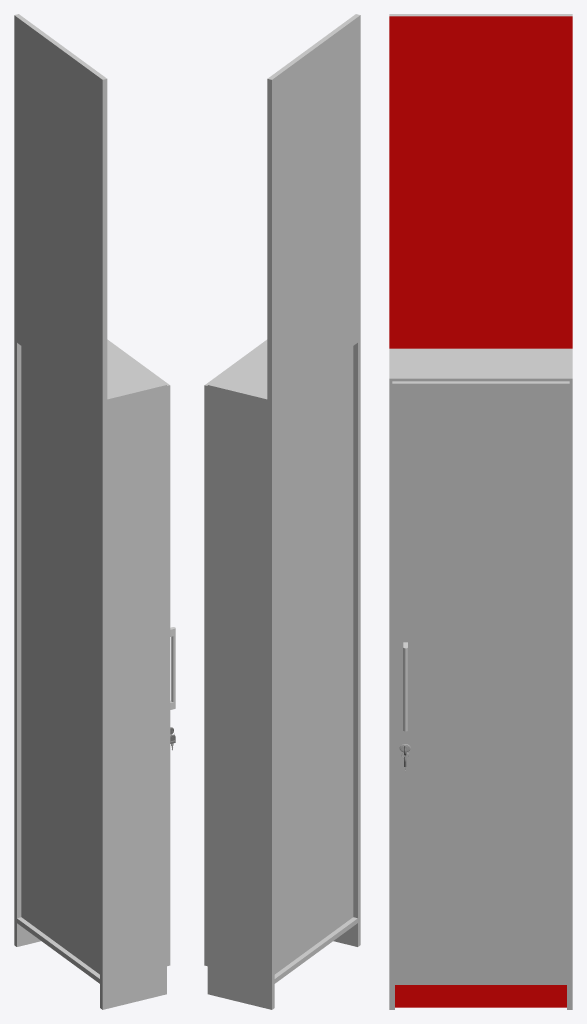
The model's file is Controlado 0,50.glb.
3 renders of one model, left to right at view 1: azimuth 30°, elevation 25°; view 2: azimuth 150°, elevation 25°; view 3: azimuth 270°, elevation 25°, orthographic. The views are drawn at different scales.
Visible parts, largest first — view 1: Geom3D_ (×7); view 2: Geom3D_ (×7); view 3: Geom3D_ (×5), Geom3D (×2).
Boxes of the visible parts, bbox=[...] form: Geom3D_ (×7): bbox=[14, 14, 170, 1009]; Geom3D_ (×7): bbox=[204, 14, 360, 1009]; Geom3D_ (×5): bbox=[389, 14, 572, 1009]; Geom3D (×2): bbox=[389, 16, 572, 1007].
Bounding box in the file's own units: 0.2631 × 2.9 × 0.5.
